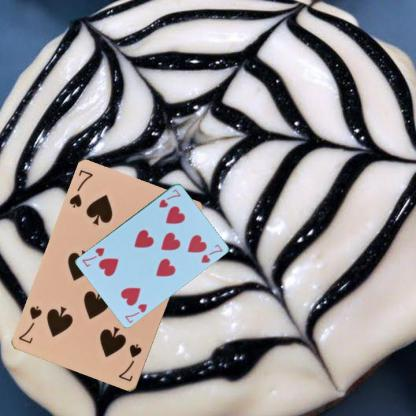7h: (122, 301, 148, 324), (157, 186, 182, 209)
7s: (66, 167, 95, 210), (116, 341, 143, 383)
